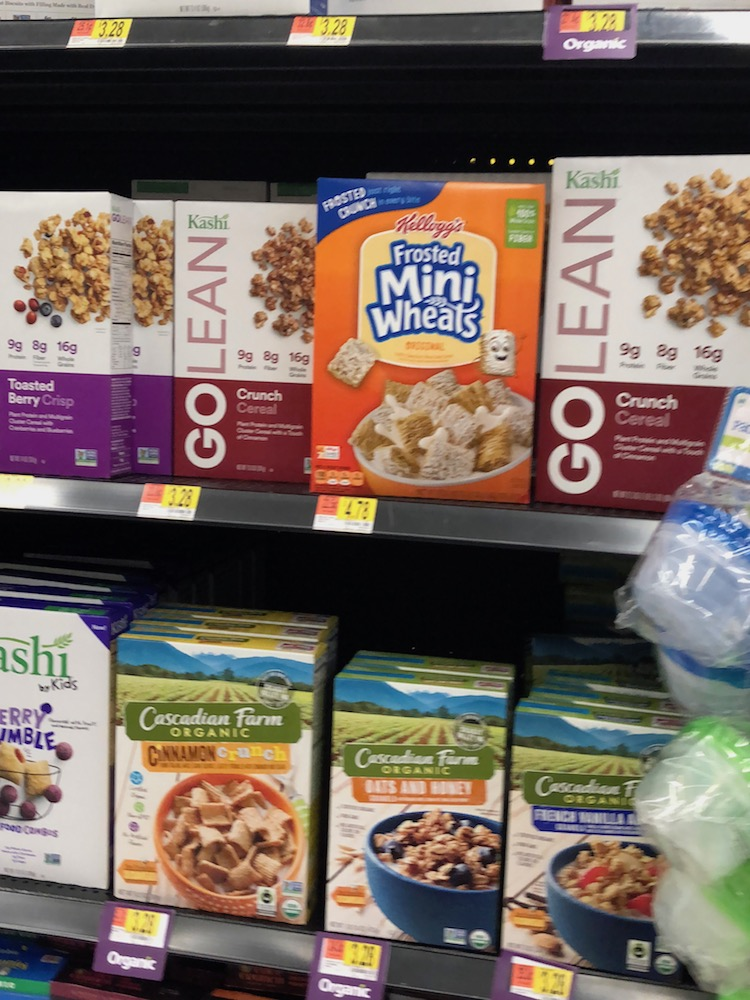Frosted Mini Original -9295869: (316, 178, 535, 502)
